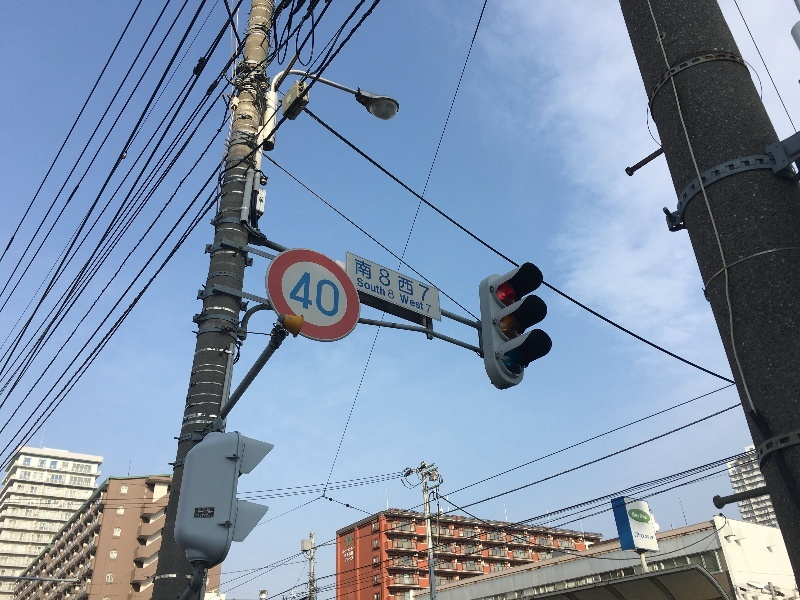text: (305, 269, 320, 319), (321, 269, 336, 319), (369, 257, 384, 302), (385, 257, 400, 302), (401, 257, 416, 302), (355, 257, 368, 302), (417, 257, 430, 302), (293, 269, 304, 319), (369, 277, 384, 300), (401, 293, 416, 314), (417, 293, 432, 314), (357, 277, 368, 300), (385, 277, 396, 300), (337, 269, 340, 319), (196, 508, 208, 517), (343, 545, 352, 554), (641, 534, 654, 540), (344, 551, 352, 558), (344, 556, 352, 562), (209, 508, 214, 517), (633, 512, 640, 518), (641, 514, 647, 520), (353, 545, 356, 554), (635, 533, 640, 538), (399, 293, 400, 314), (353, 551, 354, 558), (353, 556, 354, 562)
